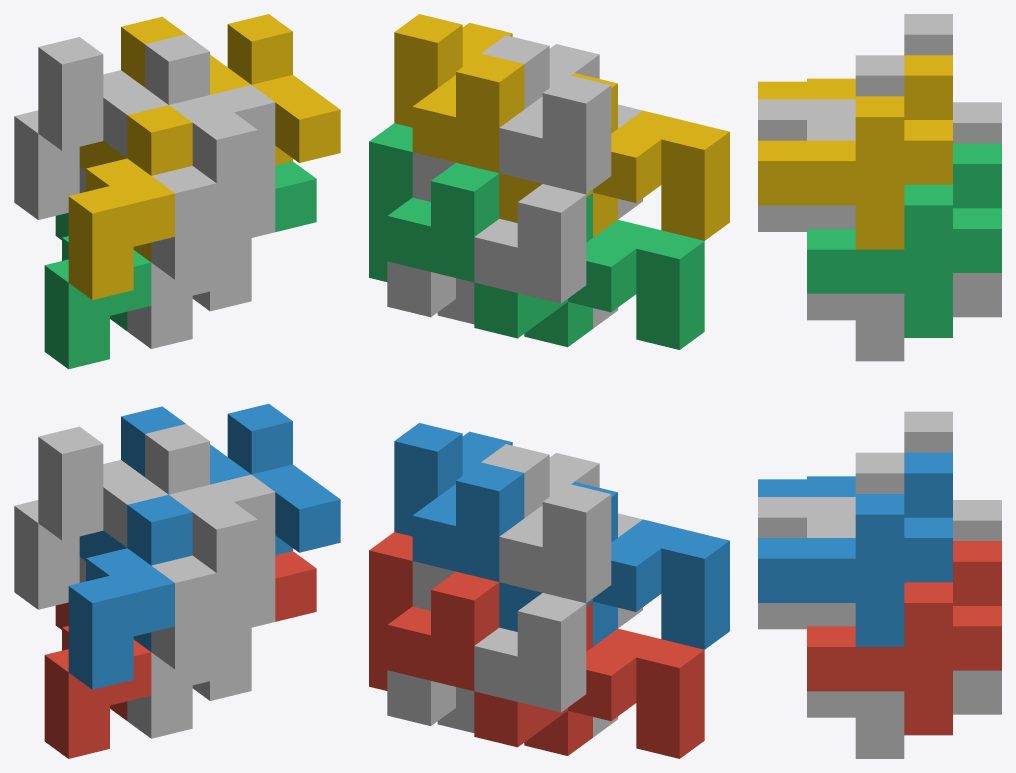
The model's file is tiling.obj.
3 renders of one model, left to right at view 1: azimuth 30°, elevation 25°; view 2: azimuth 150°, elevation 25°; view 3: azimuth 270°, elevation 25°, orthographic. The views are drawn at different scales.
Visible parts, largest first — view 1: copy_2_domain_4, copy_2_domain_2, copy_1_domain_2, copy_1_domain_4, copy_2_domain_8, copy_2_domain_6, copy_1_domain_6, copy_1_domain_8, copy_1_domain_3, copy_1_domain_1, copy_1_domain_7, copy_1_domain_5 (+4 smaller); view 2: copy_1_domain_1, copy_1_domain_3, copy_2_domain_6, copy_2_domain_8, copy_1_domain_2, copy_1_domain_4, copy_2_domain_4, copy_2_domain_2, copy_2_domain_5, copy_2_domain_7, copy_2_domain_1, copy_2_domain_3 (+4 smaller); view 3: copy_2_domain_8, copy_2_domain_6, copy_2_domain_5, copy_2_domain_7, copy_2_domain_4, copy_2_domain_2, copy_1_domain_7, copy_1_domain_5, copy_1_domain_6, copy_1_domain_8, copy_2_domain_3, copy_1_domain_4 (+2 smaller).
Boxes of the visible parts, left/top/right/bottom form: copy_2_domain_4: left=38, top=34, right=257, bottom=183; copy_2_domain_2: left=38, top=424, right=257, bottom=572; copy_1_domain_2: left=68, top=494, right=192, bottom=689; copy_1_domain_4: left=68, top=105, right=192, bottom=299; copy_2_domain_8: left=121, top=14, right=340, bottom=165; copy_2_domain_6: left=121, top=403, right=340, bottom=555; copy_1_domain_6: left=151, top=474, right=275, bottom=669; copy_1_domain_8: left=151, top=85, right=275, bottom=279; copy_1_domain_3: left=44, top=213, right=151, bottom=369; copy_1_domain_1: left=44, top=602, right=151, bottom=758; copy_1_domain_7: left=127, top=238, right=251, bottom=348; copy_1_domain_5: left=127, top=628, right=251, bottom=738; copy_1_domain_1: left=474, top=601, right=704, bottom=758; copy_1_domain_3: left=474, top=193, right=704, bottom=349; copy_2_domain_6: left=394, top=423, right=524, bottom=581; copy_2_domain_8: left=394, top=14, right=524, bottom=172; copy_1_domain_2: left=499, top=481, right=729, bottom=649; copy_1_domain_4: left=499, top=73, right=729, bottom=240; copy_2_domain_4: left=481, top=35, right=611, bottom=194; copy_2_domain_2: left=481, top=444, right=611, bottom=603; copy_2_domain_5: left=369, top=532, right=499, bottom=691; copy_2_domain_7: left=369, top=123, right=499, bottom=282; copy_2_domain_1: left=456, top=593, right=586, bottom=712; copy_2_domain_3: left=456, top=184, right=586, bottom=303; copy_2_domain_8: left=758, top=55, right=952, bottom=249; copy_2_domain_6: left=758, top=452, right=952, bottom=646; copy_2_domain_5: left=807, top=541, right=1001, bottom=735; copy_2_domain_7: left=807, top=143, right=1001, bottom=337; copy_2_domain_4: left=758, top=14, right=952, bottom=140; copy_2_domain_2: left=758, top=411, right=952, bottom=537; copy_1_domain_7: left=807, top=273, right=1001, bottom=361; copy_1_domain_5: left=807, top=670, right=1001, bottom=758; copy_1_domain_6: left=758, top=517, right=855, bottom=629; copy_1_domain_8: left=758, top=120, right=855, bottom=231; copy_2_domain_3: left=953, top=102, right=1001, bottom=143; copy_1_domain_4: left=758, top=78, right=855, bottom=99.
Bounding box in the file's own units: 6 × 15 × 5.
